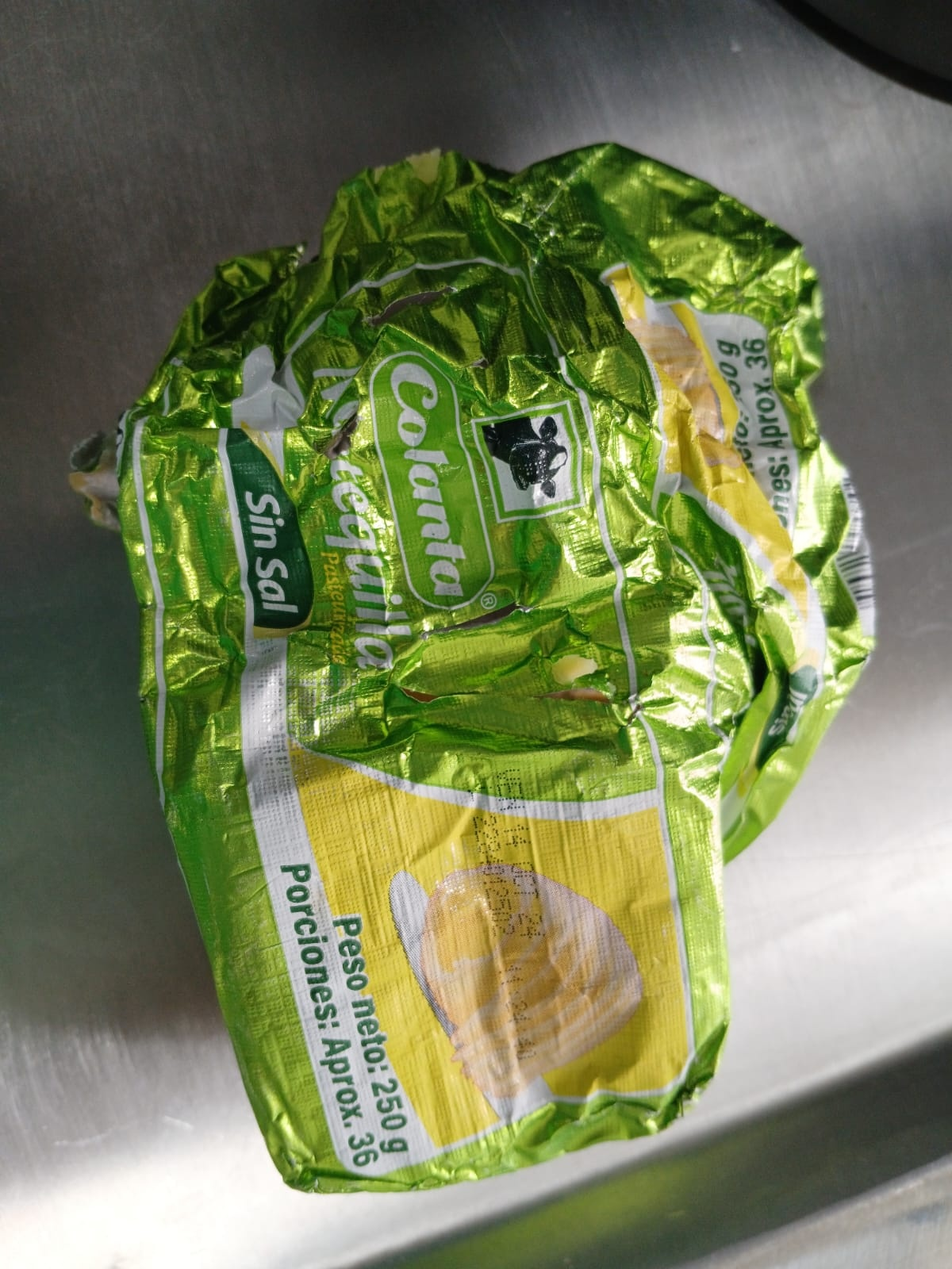Ordinario: (66, 140, 880, 1193)
